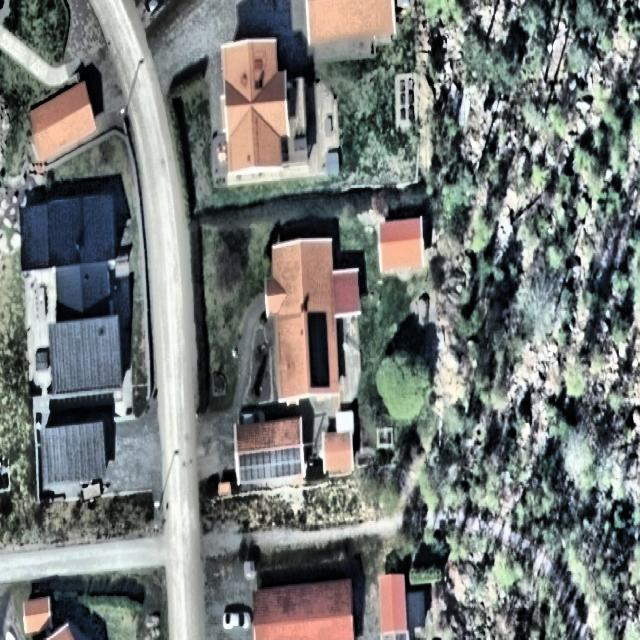roof_pv: (236, 446, 302, 488), (306, 312, 331, 387)
